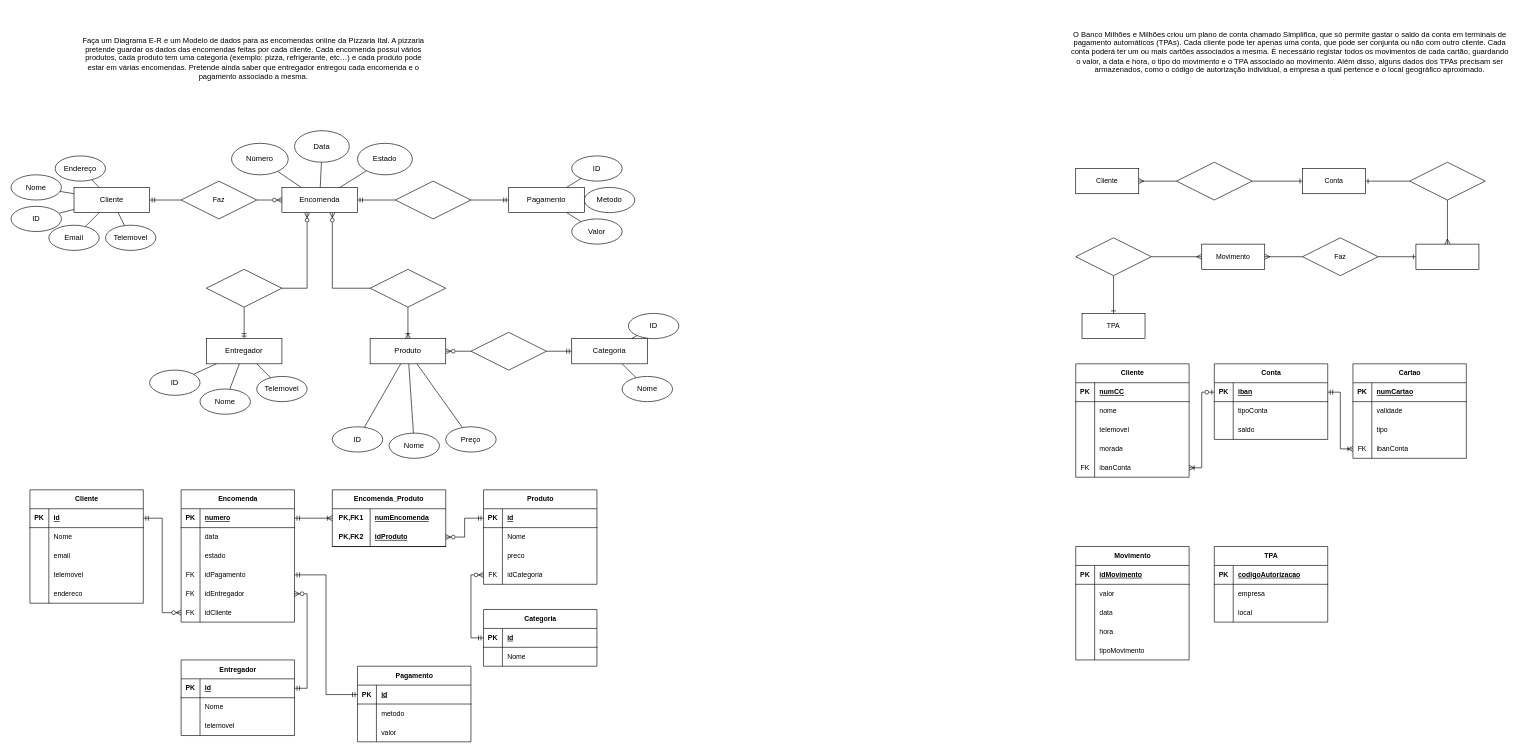
The diagram is 1521 pixels wide and 753 high, and some of its shapes have lost their labels. Here are the shapes that lost their labels. From the top down, the centre of each, then its label:
At [433,199]: "Ter".
At [1214,181]: "Tem".
At [1447,181]: "Associado".
At [1113,256]: "Pertence".
At [1447,256]: "Cartão".
At [244,288]: "Entrega".
At [407,288]: "Contém".
At [508,351]: "Estar".
